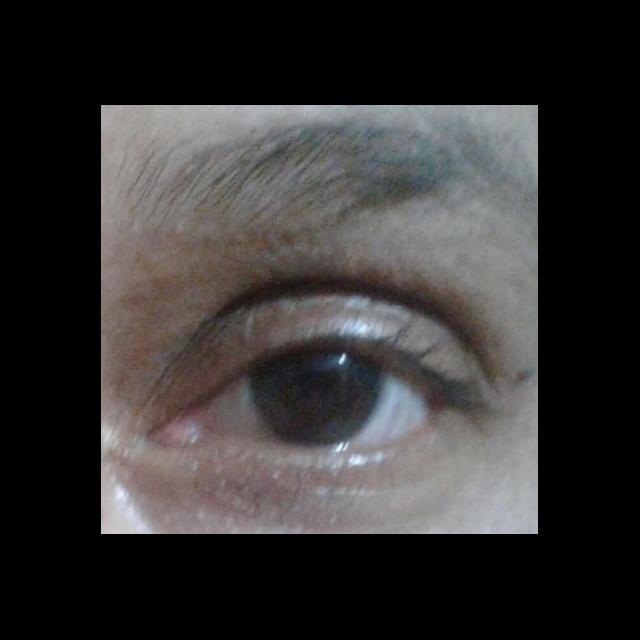eye: (201, 349, 426, 454)
iris: (251, 352, 386, 450)
